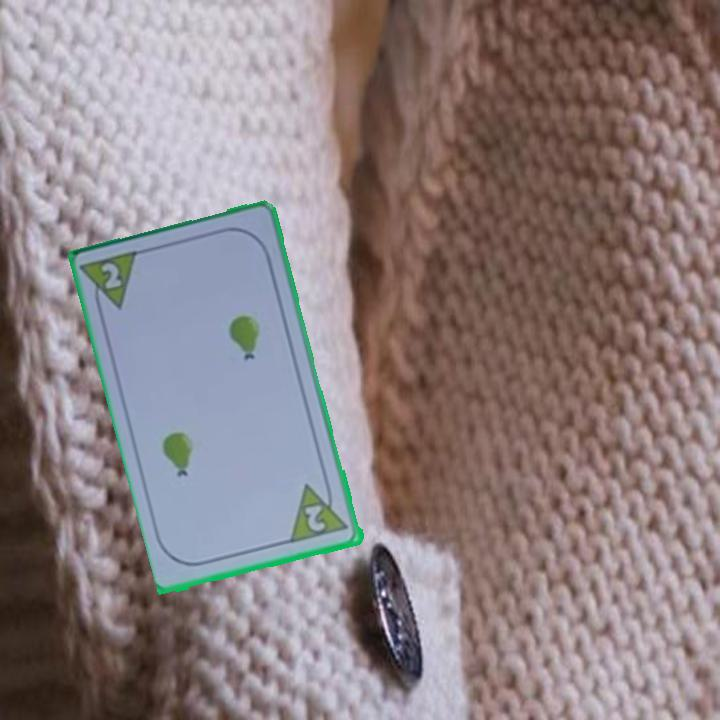2p: (79, 246, 144, 319), (301, 501, 329, 535)
